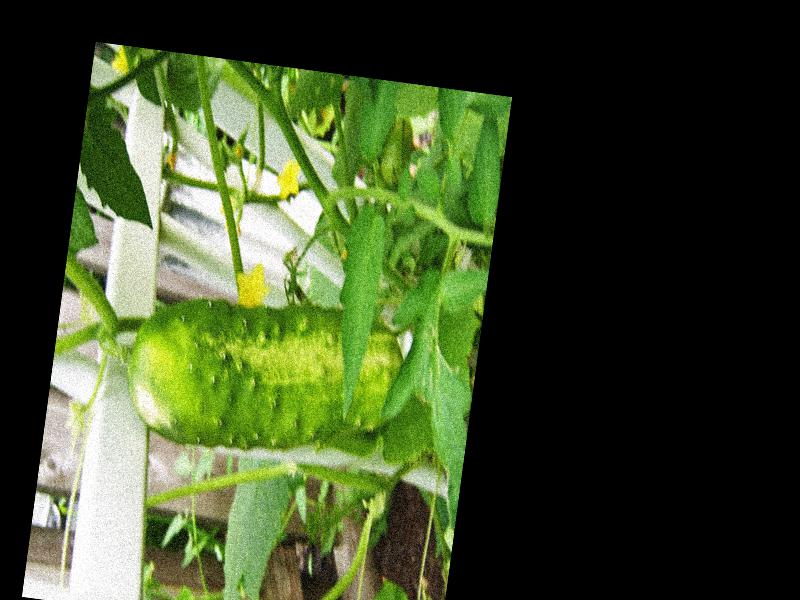Cucumber: (119, 288, 405, 469)
